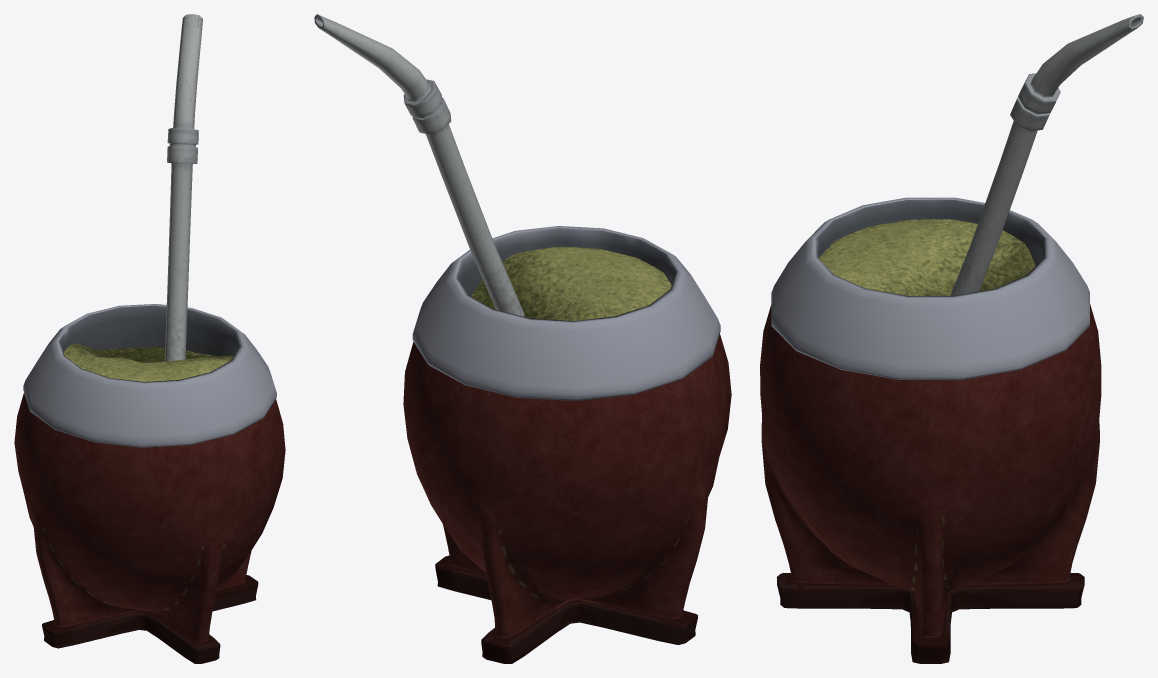
The picture shows the model from 3 angles, left to right: view 1: azimuth 30°, elevation 25°; view 2: azimuth 150°, elevation 25°; view 3: azimuth 270°, elevation 25°; orthographic projection. The views are drawn at different scales.
Parts seen in each view (by area): view 1: MateFull3, MateFull1, MateFull, MateFull2; view 2: MateFull3, MateFull1, MateFull2, MateFull; view 3: MateFull3, MateFull1, MateFull2, MateFull.
Boxes of the visible parts, x1=… form: MateFull3: x1=14, y1=393, x2=285, y2=663; MateFull1: x1=23, y1=304, x2=276, y2=447; MateFull: x1=164, y1=14, x2=202, y2=361; MateFull2: x1=63, y1=343, x2=233, y2=381; MateFull3: x1=403, y1=334, x2=731, y2=663; MateFull1: x1=412, y1=226, x2=720, y2=400; MateFull2: x1=471, y1=246, x2=671, y2=320; MateFull: x1=314, y1=14, x2=524, y2=316; MateFull3: x1=760, y1=304, x2=1101, y2=663; MateFull1: x1=771, y1=197, x2=1089, y2=379; MateFull2: x1=819, y1=219, x2=1035, y2=295; MateFull: x1=950, y1=14, x2=1143, y2=295.
Bounding box in the file's own units: 0.995 × 2 × 1.05.
4 materials, 4 textured.
